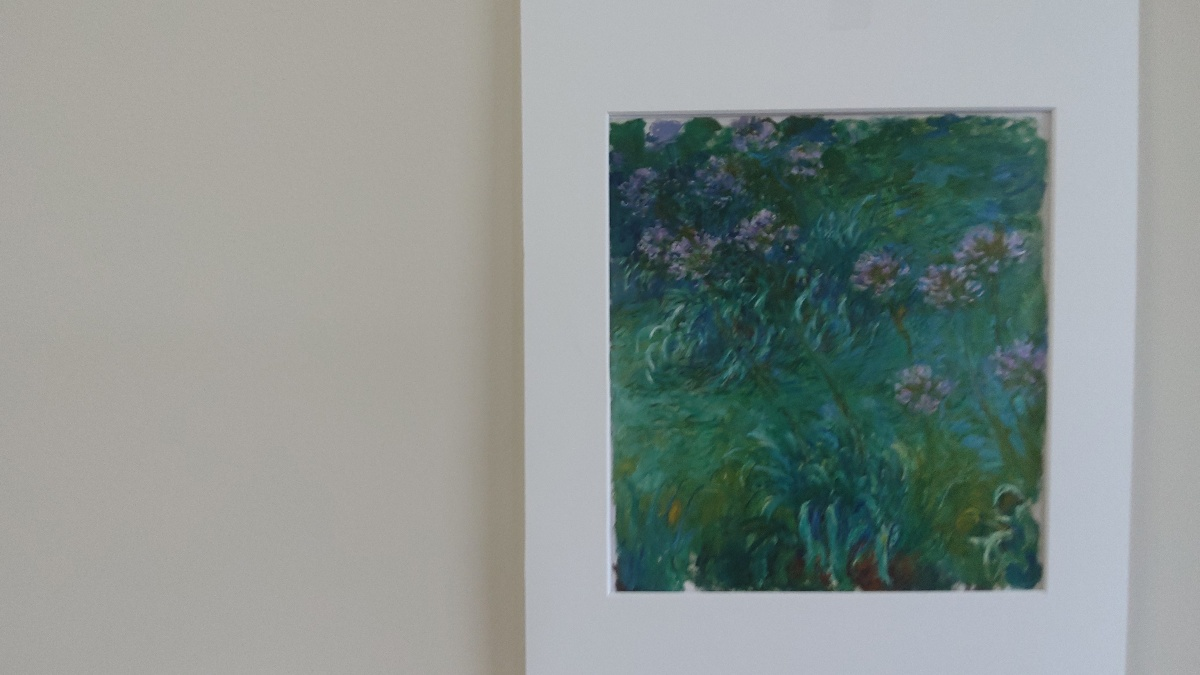painting: (594, 95, 1058, 615)
